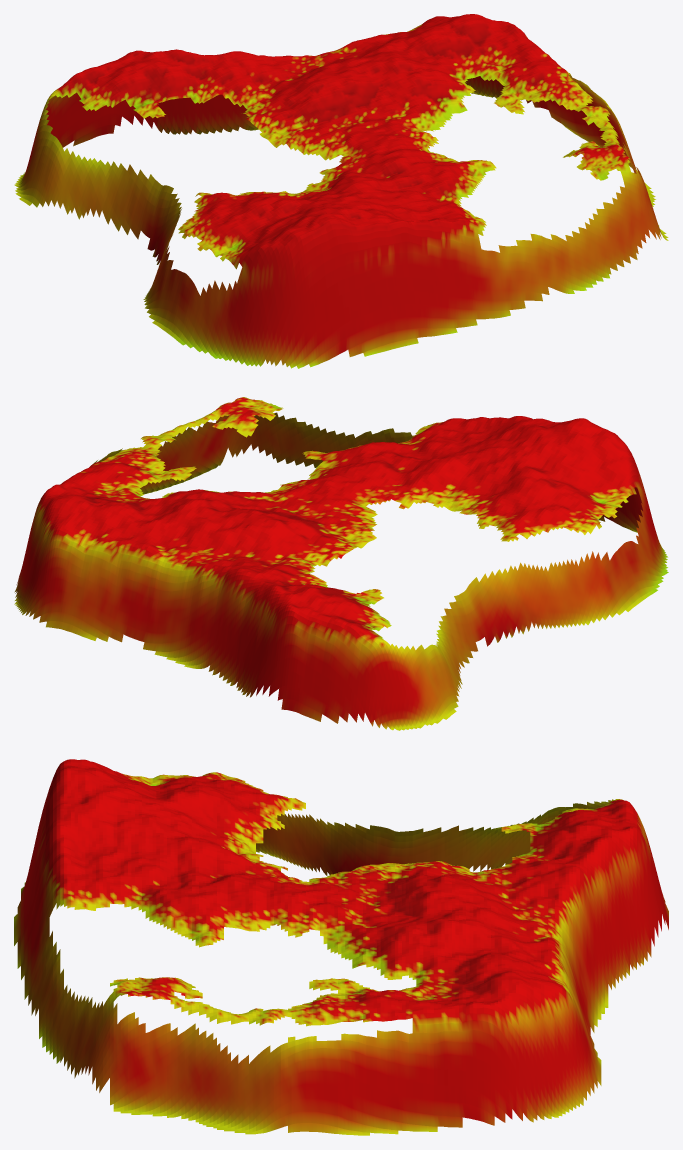
Rendered from snowy_peak_map_stone.obj.
3 renders of one model, top to bottom at view 1: azimuth 30°, elevation 25°; view 2: azimuth 150°, elevation 25°; view 3: azimuth 270°, elevation 25°, orthographic. The views are drawn at different scales.
Visible parts, largest first — view 1: Plane.001; view 2: Plane.001; view 3: Plane.001.
Part boxes in pixels (x1,y1,x2,y2): Plane.001: (14,14,668,368); Plane.001: (14,397,668,730); Plane.001: (14,759,668,1135).
Size of the model in its own units: 191 by 43.91 by 184.
